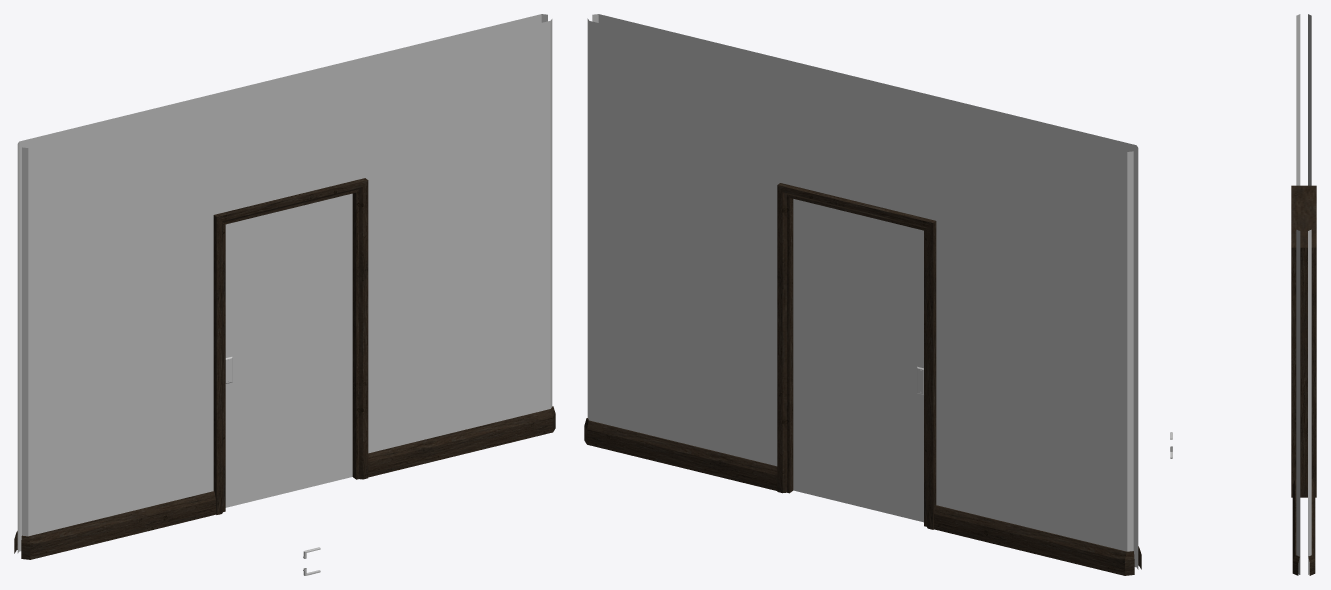
The model's file is doorway_door_mp_1.fbx.
3 views of the same model, side by side, from view 1: azimuth 30°, elevation 25°; view 2: azimuth 150°, elevation 25°; view 3: azimuth 270°, elevation 25° (orthographic). The views are drawn at different scales.
Parts seen in each view (by area): view 1: doorway_door_mp_1, door_mp_1; view 2: doorway_door_mp_1, door_mp_1; view 3: doorway_door_mp_1.
Boxes of the visible parts, box(x1,y1,x2,y2) form: doorway_door_mp_1: box(14, 14, 555, 559); door_mp_1: box(225, 193, 352, 507); doorway_door_mp_1: box(584, 14, 1141, 575); door_mp_1: box(793, 199, 923, 522); doorway_door_mp_1: box(1291, 14, 1316, 575).
Bounding box in the file's own units: 4.09 × 3.09 × 1.16.
